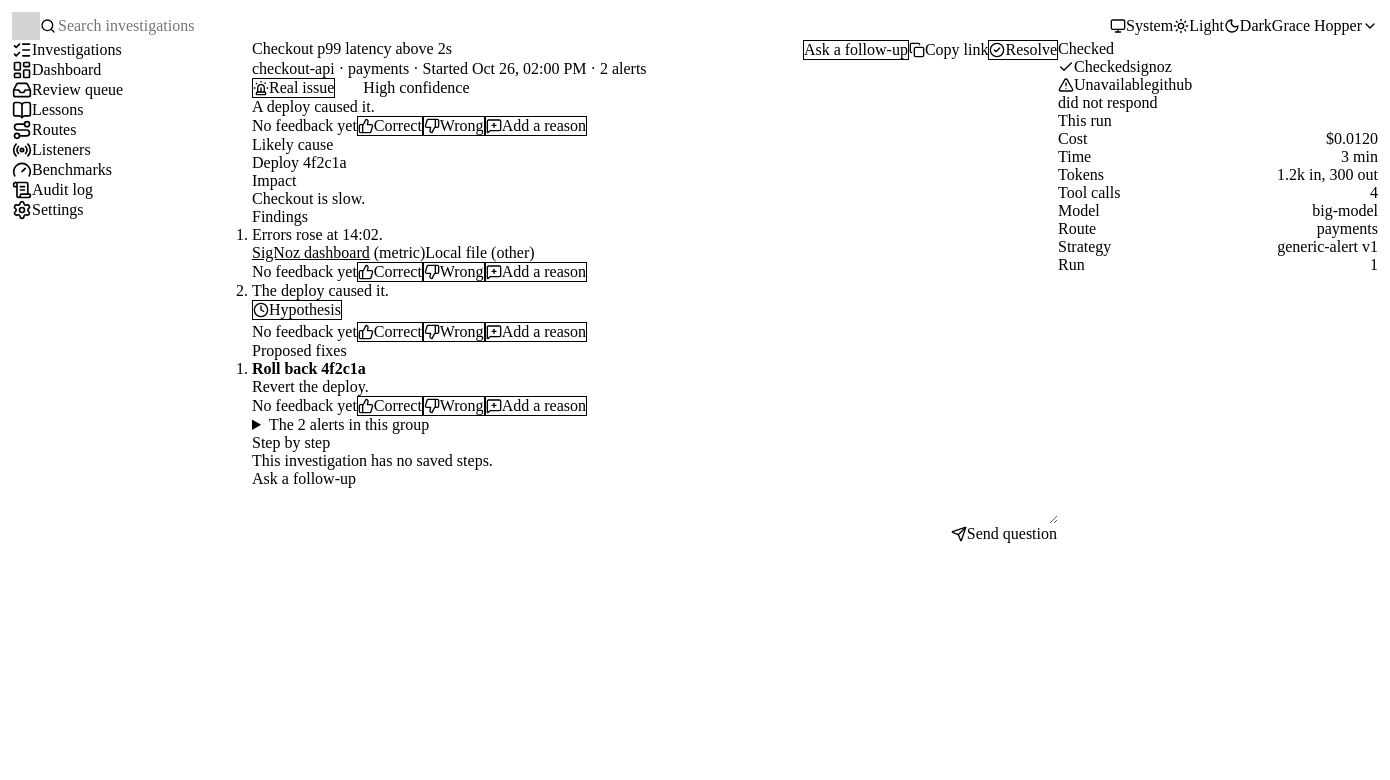
the investigation page › the follow-up box › sends the question, clears the box and says it was sent
Expected: the button "Send question" is disabled, [950,524,1058,544]
Type "  Was it the cache?  " into the text box labelled "Ask a follow-up" at (655, 506), box [252,488,1058,524]
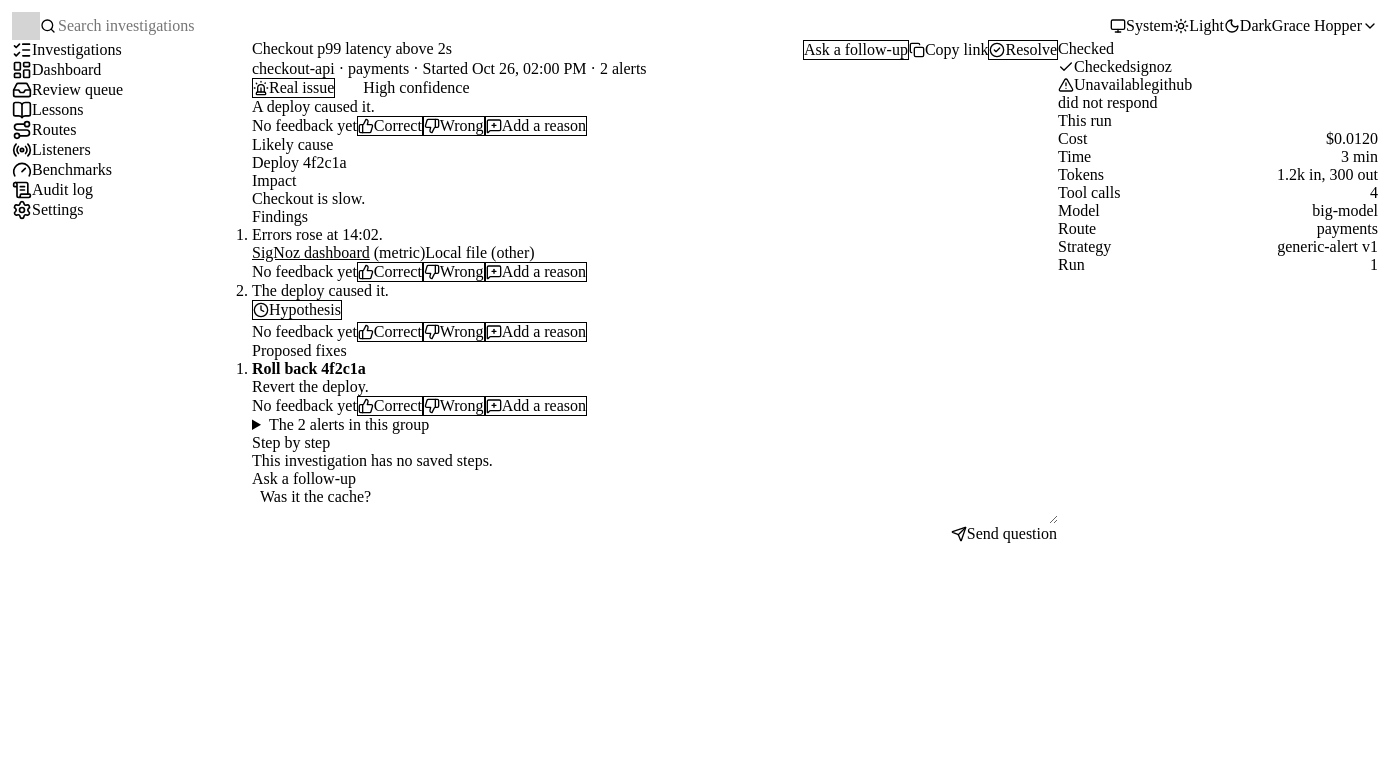
Click the button "Send question" at (1004, 534), box [950,524,1058,544]
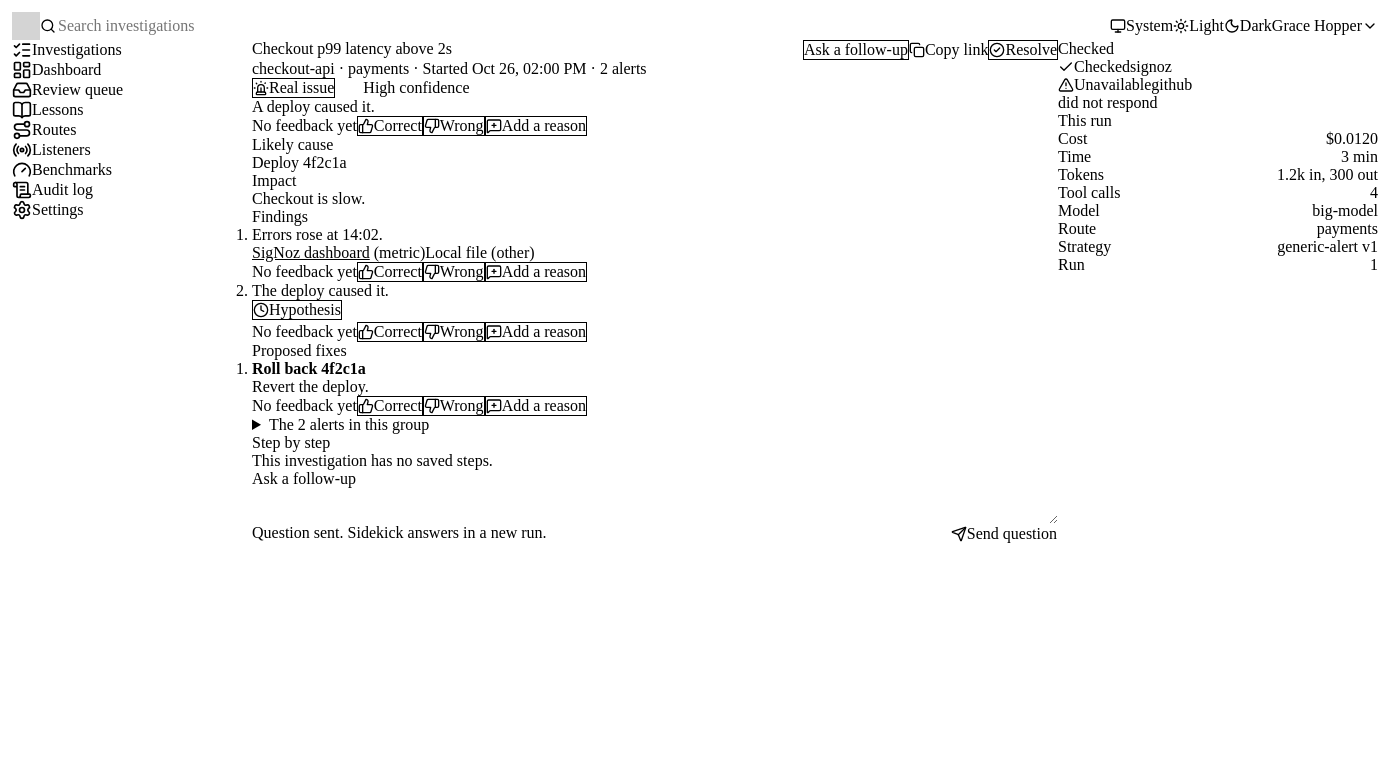
Expected: the text "Question sent. Sidekick answers in a new run." is shown, [252,524,547,541]
Expected: the text box labelled "Ask a follow-up" is empty, [252,488,1058,524]
